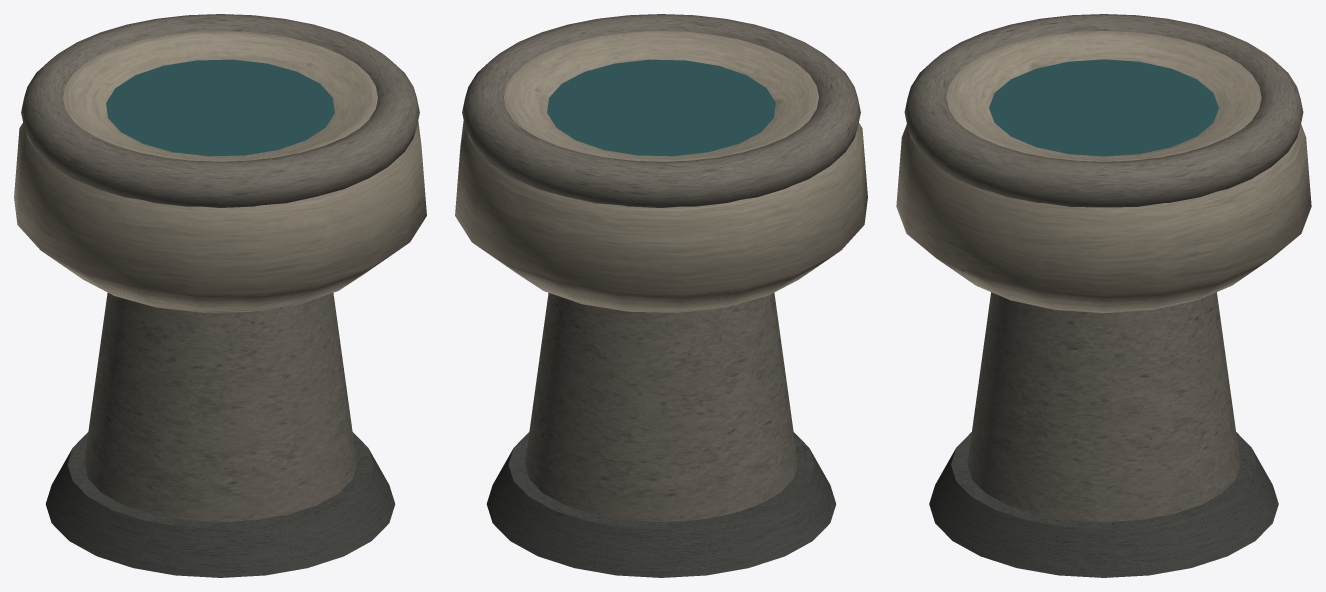
The model's file is font_basin.glb.
3 views of the same model, side by side, from view 1: azimuth 30°, elevation 25°; view 2: azimuth 150°, elevation 25°; view 3: azimuth 270°, elevation 25° (orthographic).
Parts seen in each view (by area): view 1: font_basin; view 2: font_basin; view 3: font_basin.
Part boxes in pixels (x1,y1,x2,y2): font_basin: [14, 14, 426, 577]; font_basin: [455, 14, 867, 577]; font_basin: [896, 14, 1311, 577].
Bounding box in the file's own units: 1 × 1.1 × 1.
Materials: 1 (1 with a texture image).
